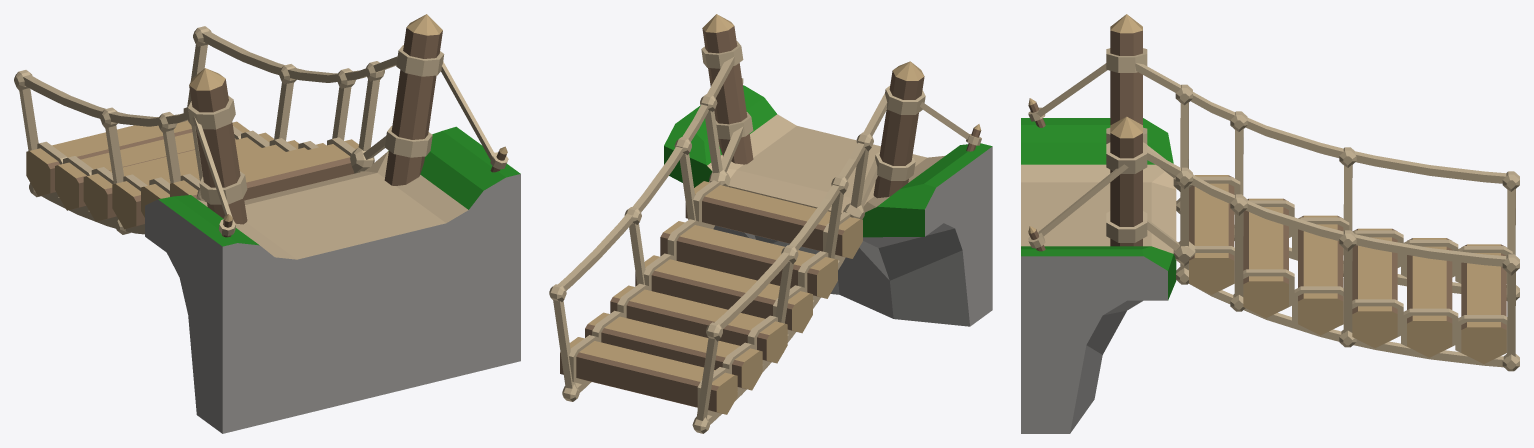
File: Prop_Bridge_Rope_End.obj
The picture shows the model from 3 angles, left to right: view 1: azimuth 30°, elevation 25°; view 2: azimuth 150°, elevation 25°; view 3: azimuth 270°, elevation 25°; orthographic projection. The views are drawn at different scales.
Visible parts, largest first — view 1: object13, object48, object65, object41, object54, object62, object58, object63, object1, object26, object50, object59 (+12 smaller); view 2: object13, object54, object65, object60, object63, object58, object62, object41, object48, object26, object1, object2 (+16 smaller); view 3: object13, object60, object63, object58, object62, object65, object54, object1, object26, object48, object41, object35 (+23 smaller).
Part boxes in pixels (x1,y1,x2,y2): object13: [145, 126, 520, 433]; object48: [384, 14, 442, 185]; object65: [170, 139, 358, 200]; object41: [189, 68, 247, 224]; object54: [26, 113, 192, 196]; object62: [55, 121, 249, 210]; object58: [83, 132, 273, 221]; object63: [112, 140, 298, 229]; object1: [23, 75, 187, 126]; object26: [202, 31, 366, 82]; object50: [384, 126, 432, 157]; object59: [396, 45, 444, 76]; object13: [664, 85, 992, 326]; object54: [560, 337, 737, 414]; object65: [685, 181, 862, 258]; object60: [660, 221, 837, 298]; object63: [635, 255, 812, 333]; object58: [610, 285, 787, 363]; object62: [585, 312, 762, 390]; object41: [873, 61, 924, 198]; object48: [702, 14, 753, 164]; object26: [558, 104, 708, 290]; object1: [714, 142, 865, 328]; object2: [696, 338, 718, 420]; object13: [1021, 118, 1176, 433]; object60: [1243, 198, 1288, 318]; object63: [1298, 215, 1343, 335]; object58: [1352, 228, 1397, 348]; object62: [1407, 238, 1452, 357]; object65: [1189, 175, 1234, 294]; object54: [1461, 244, 1506, 363]; object1: [1190, 92, 1506, 183]; object26: [1191, 175, 1506, 266]; object48: [1110, 116, 1142, 246]; object41: [1110, 14, 1142, 125]; object35: [1190, 284, 1503, 367].
Bounding box in the file's own units: 2 × 2.02 × 3.05.
